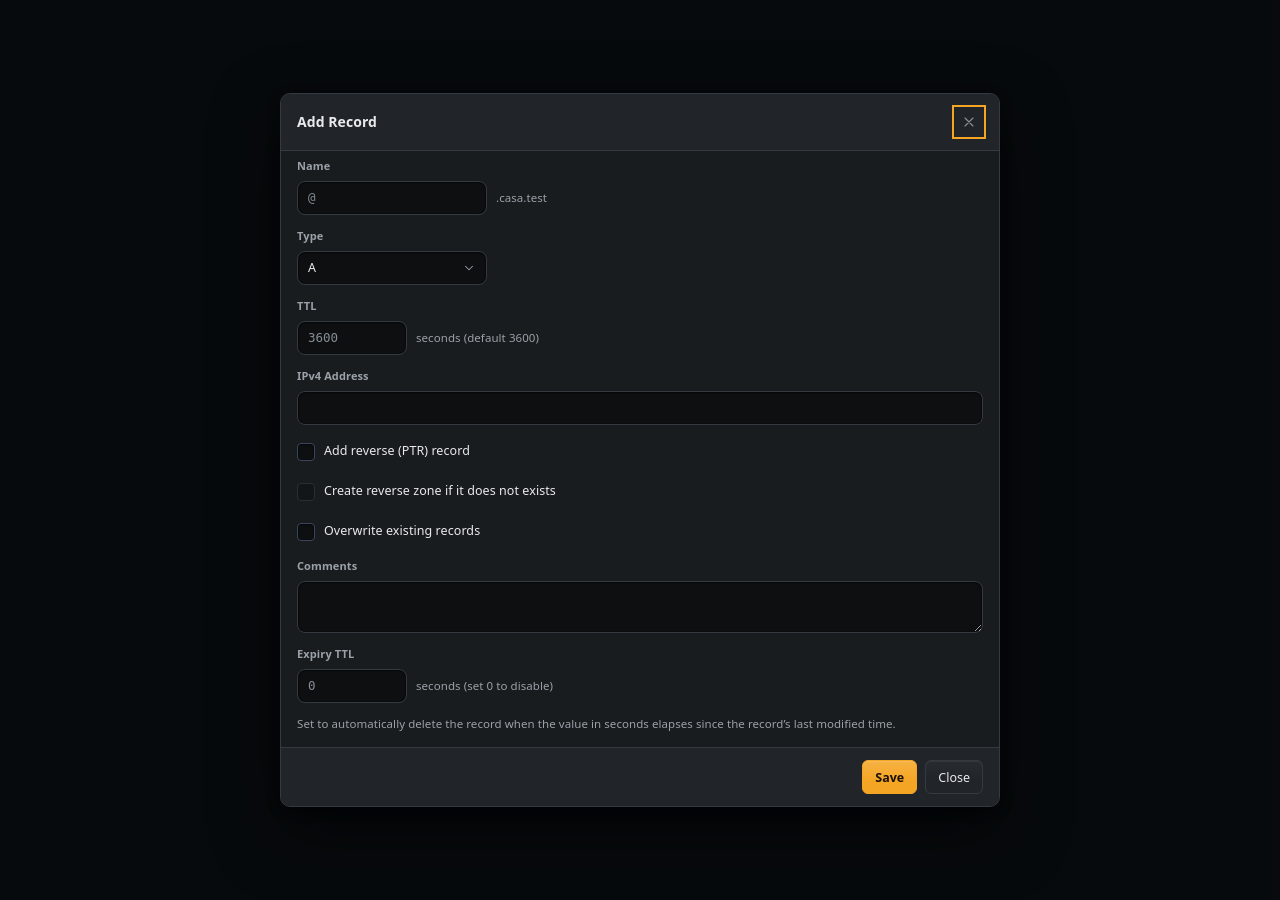
Test: record form: changing the type › "Create reverse zone" is only enabled while the PTR box is ticked
expect the checkbox labelled "Create reverse zone if it does not exists" is disabled: met, box top-left (297, 483), bottom-right (315, 501)
What coordinates should you click on to do the following:
click the checkbox labelled "Add reverse (PTR) record"
I would click on:
 (306, 452)
Its box is top-left (297, 443), bottom-right (315, 461).
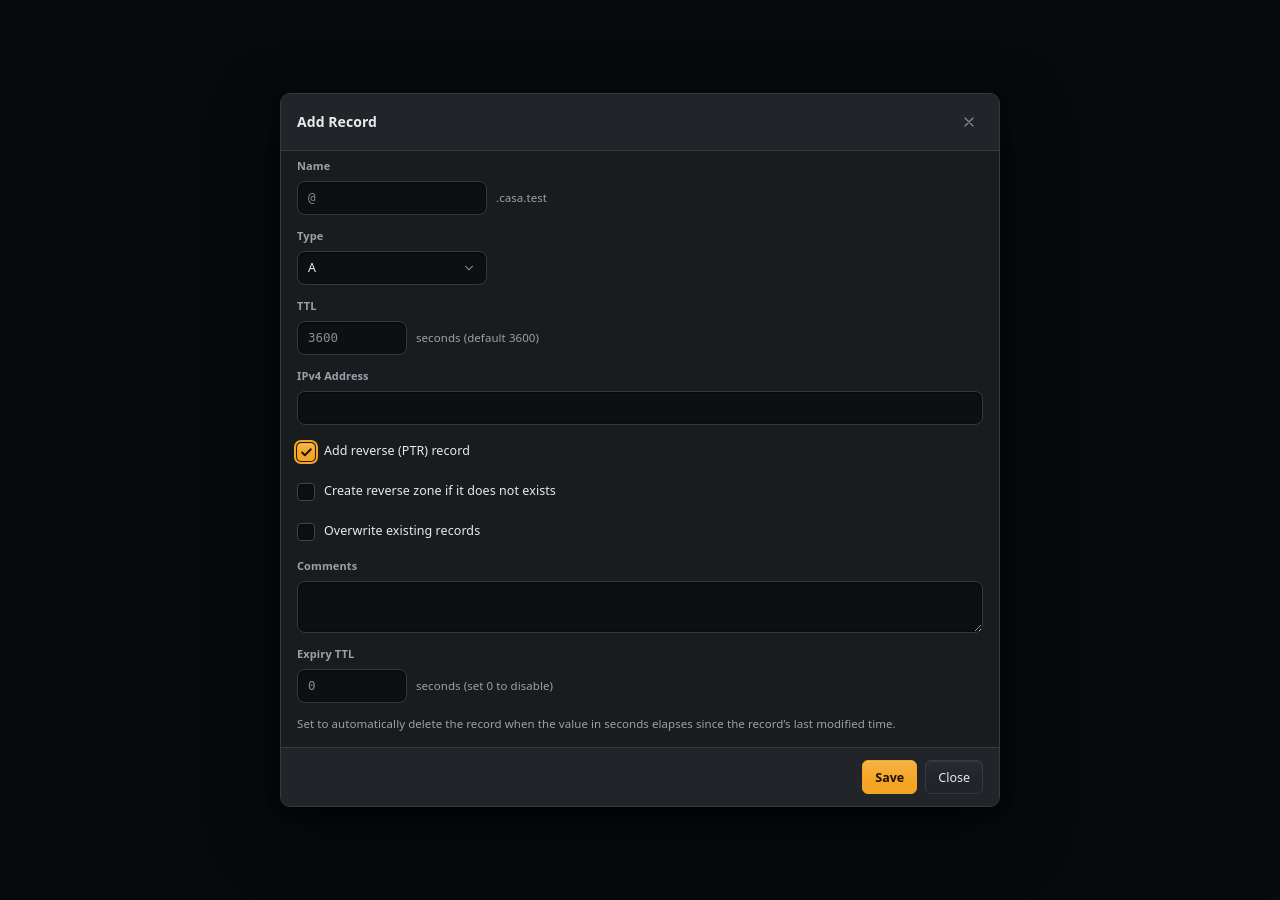
expect the checkbox labelled "Create reverse zone if it does not exists" is enabled: met, box top-left (297, 483), bottom-right (315, 501)
